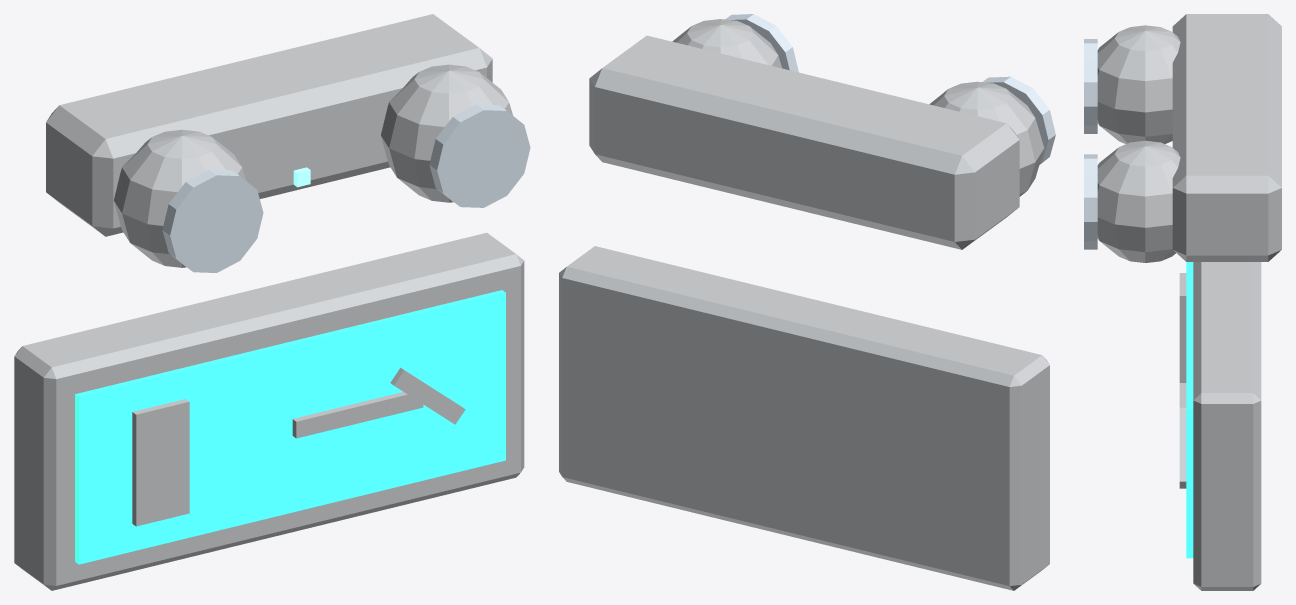
Rendered from 44_Emergency_Light_Exit_Sign.fbx.
3 views of the same model, side by side, from view 1: azimuth 30°, elevation 25°; view 2: azimuth 150°, elevation 25°; view 3: azimuth 270°, elevation 25° (orthographic). The views are drawn at different scales.
Visible parts, largest first — view 1: 44_Emergency_Light_Exit_Sign; view 2: 44_Emergency_Light_Exit_Sign; view 3: 44_Emergency_Light_Exit_Sign.
Boxes of the visible parts, x1,y1,x2,y2 form: 44_Emergency_Light_Exit_Sign: [14, 14, 530, 590]; 44_Emergency_Light_Exit_Sign: [559, 14, 1055, 590]; 44_Emergency_Light_Exit_Sign: [1084, 14, 1281, 590].
Bounding box in the file's own units: 0.36 × 0.325 × 0.145.
